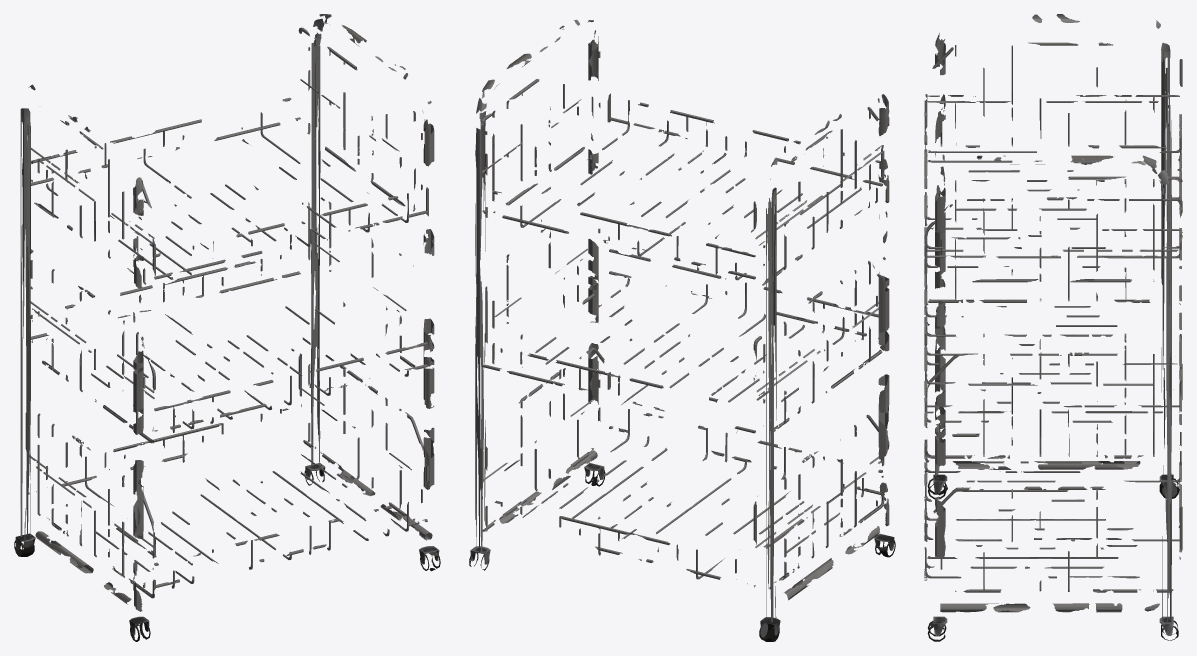
Rendered from trolley.obj.
The picture shows the model from 3 angles, left to right: view 1: azimuth 30°, elevation 25°; view 2: azimuth 150°, elevation 25°; view 3: azimuth 270°, elevation 25°; orthographic projection.
Visible parts, largest first — view 1: trolley_shelf; view 2: trolley_shelf; view 3: trolley_shelf.
Part boxes in pixels (bbox=[...]): trolley_shelf: bbox=[14, 14, 440, 641]; trolley_shelf: bbox=[469, 20, 895, 641]; trolley_shelf: bbox=[924, 14, 1182, 641].
Bounding box in the file's own units: 62.39 × 94.34 × 45.6.
